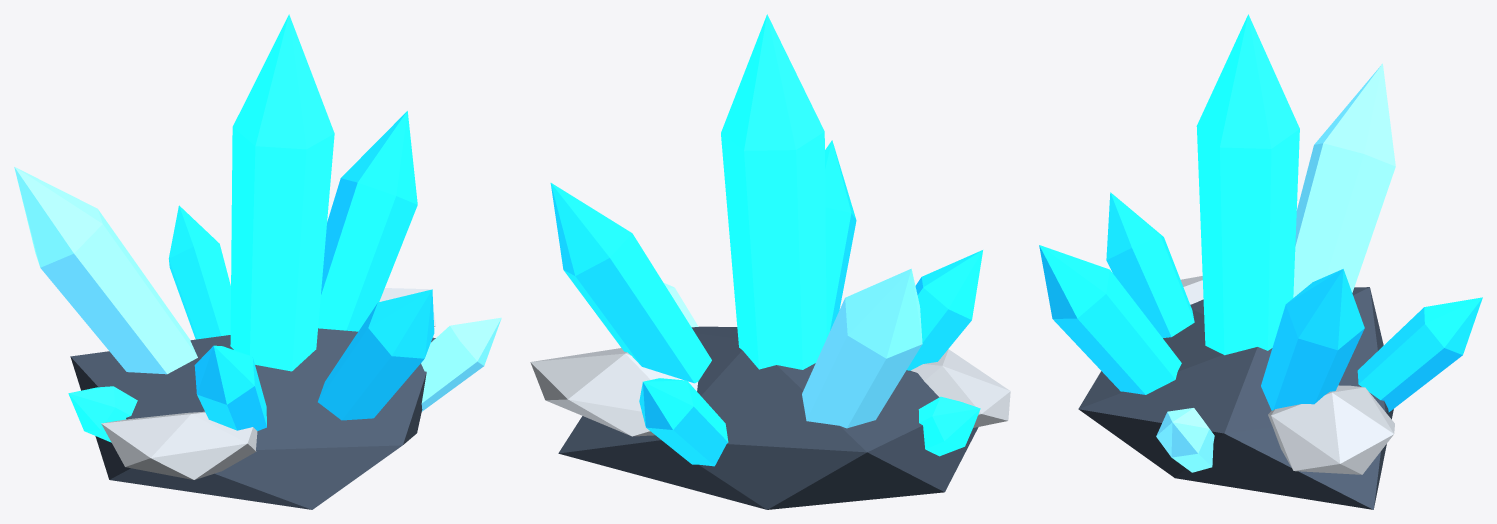
Rendered from ice_crystals.glb.
3 views of the same model, side by side, from view 1: azimuth 30°, elevation 25°; view 2: azimuth 150°, elevation 25°; view 3: azimuth 270°, elevation 25° (orthographic).
Parts seen in each view (by area): view 1: ice_crystals; view 2: ice_crystals; view 3: ice_crystals.
Boxes of the visible parts, <box> form: ice_crystals: <box>14,14,501,509</box>; ice_crystals: <box>530,14,1010,509</box>; ice_crystals: <box>1039,14,1482,509</box>.
Bounding box in the file's own units: 0.6809 × 0.7001 × 0.6441.
